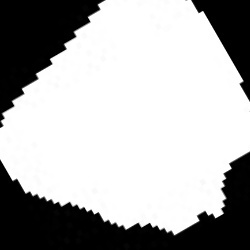spot: (2, 2, 248, 235)
